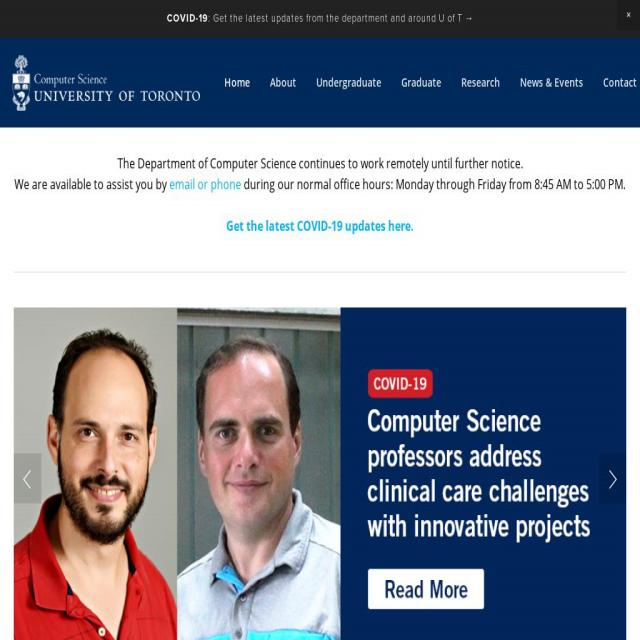navigation-links: (216, 63, 640, 105)
